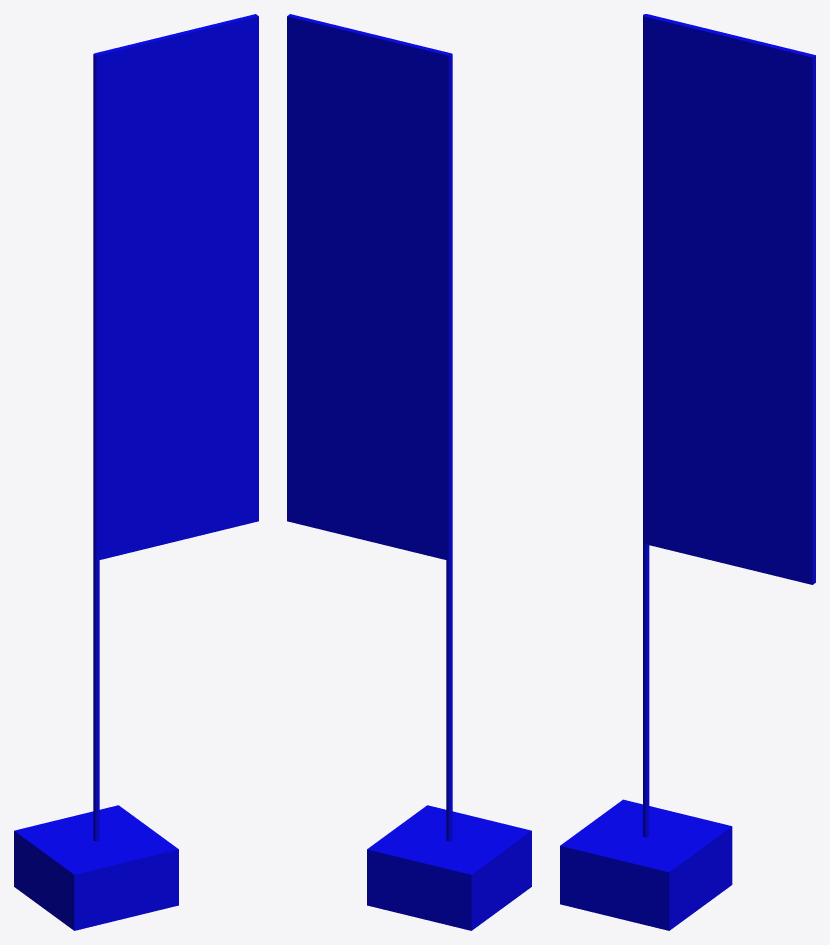
File: flag_blue.obj
3 renders of one model, left to right at view 1: azimuth 30°, elevation 25°; view 2: azimuth 150°, elevation 25°; view 3: azimuth 330°, elevation 25°, orthographic. The views are drawn at different scales.
Parts seen in each view (by area): view 1: mesh0.008; view 2: mesh0.008; view 3: mesh0.008.
Part boxes in pixels (x1,y1,x2,y2): mesh0.008: [14, 14, 258, 930]; mesh0.008: [287, 14, 531, 930]; mesh0.008: [560, 14, 815, 930].
Bounding box in the file's own units: 0.795 × 3 × 0.39.
